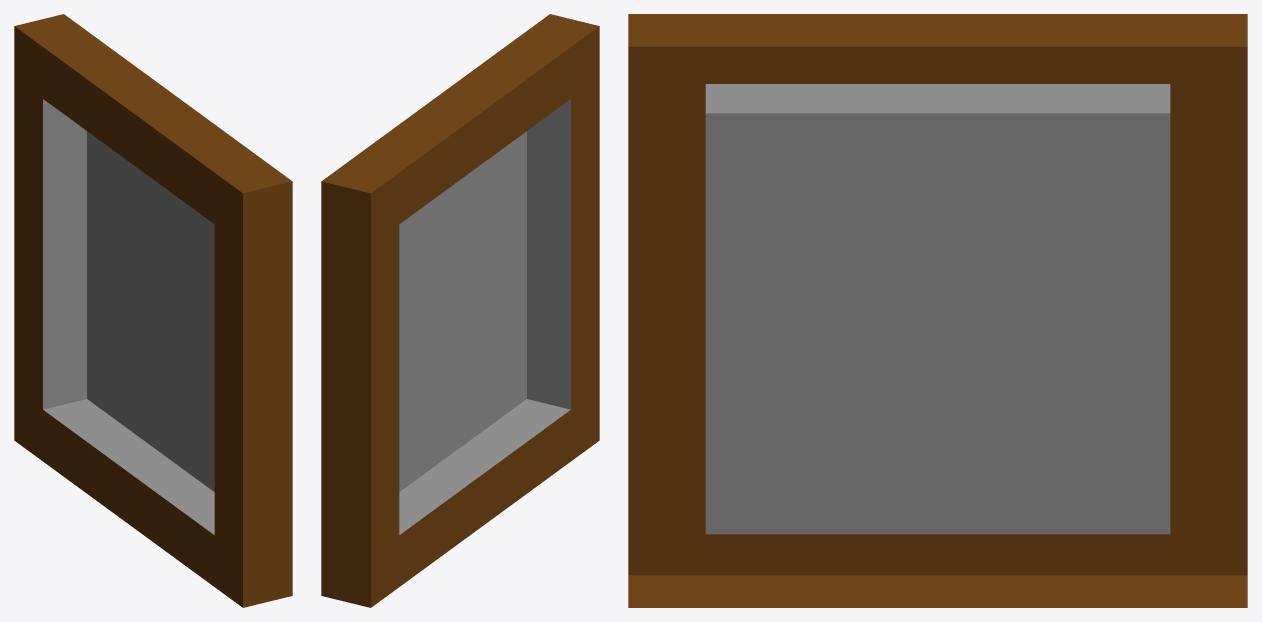
The model's file is frame.fbx.
The picture shows the model from 3 angles, left to right: view 1: azimuth 30°, elevation 25°; view 2: azimuth 150°, elevation 25°; view 3: azimuth 270°, elevation 25°; orthographic projection. The views are drawn at different scales.
Visible parts, largest first — view 1: Cube; view 2: Cube; view 3: Cube.
Part boxes in pixels (<box>): Cube: <box>14,14,292,607</box>; Cube: <box>321,14,599,607</box>; Cube: <box>628,14,1247,607</box>.
Size of the model in its own units: 72.34 by 579 by 579.
